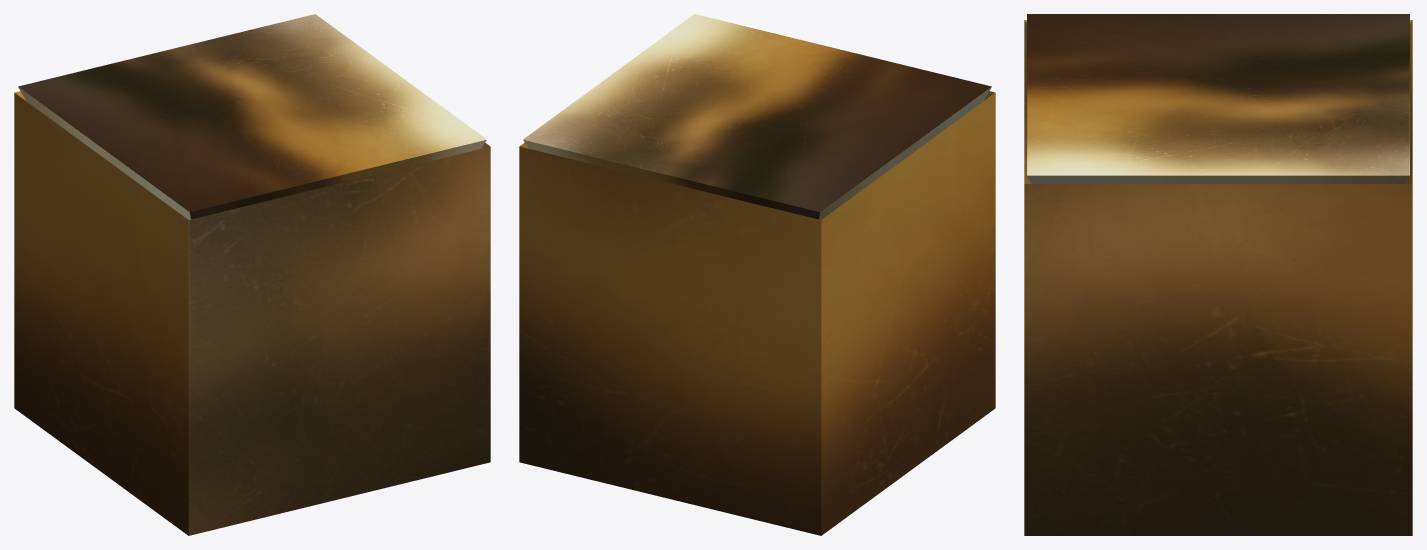
The model's file is Boxchip.fbx.
The picture shows the model from 3 angles, left to right: view 1: azimuth 30°, elevation 25°; view 2: azimuth 150°, elevation 25°; view 3: azimuth 270°, elevation 25°; orthographic projection. The views are drawn at different scales.
Visible parts, largest first — view 1: boxbottom, Boxcover; view 2: boxbottom, Boxcover; view 3: boxbottom, Boxcover.
Boxes of the visible parts, box(x1,y1,x2,y2) form: boxbottom: box(14, 91, 490, 535); Boxcover: box(18, 14, 486, 219); boxbottom: box(519, 91, 995, 535); Boxcover: box(523, 14, 991, 219); boxbottom: box(1024, 20, 1412, 535); Boxcover: box(1027, 14, 1409, 183).
Bounding box in the file's own units: 78.26 × 79.85 × 78.26.
